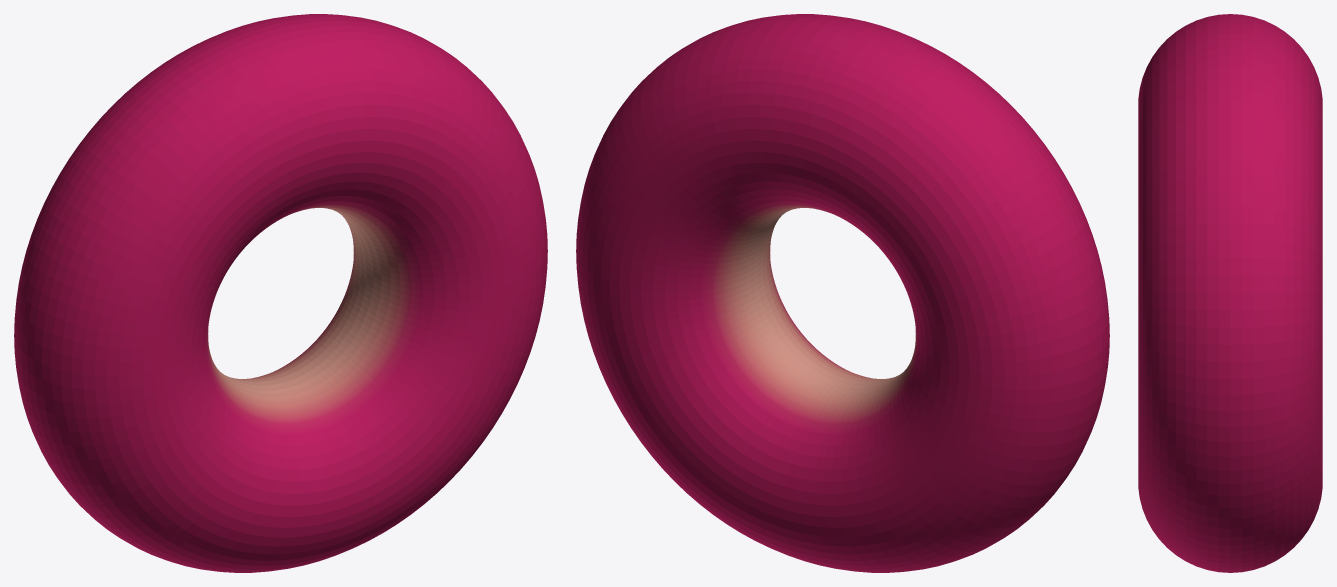
3 renders of one model, left to right at view 1: azimuth 30°, elevation 25°; view 2: azimuth 150°, elevation 25°; view 3: azimuth 270°, elevation 25°, orthographic. The views are drawn at different scales.
Parts seen in each view (by area): view 1: world; view 2: world; view 3: world.
Boxes of the visible parts, bbox=[...] form: world: bbox=[14, 14, 547, 572]; world: bbox=[576, 14, 1109, 572]; world: bbox=[1138, 14, 1322, 572].
Size of the model in its own units: 18.93 by 18.93 by 6.25.
